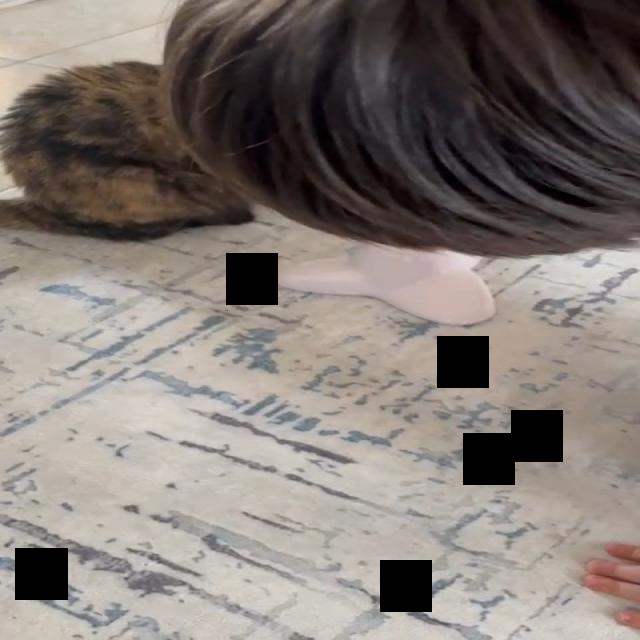authorized: (0, 0, 639, 326), (0, 60, 255, 242)
